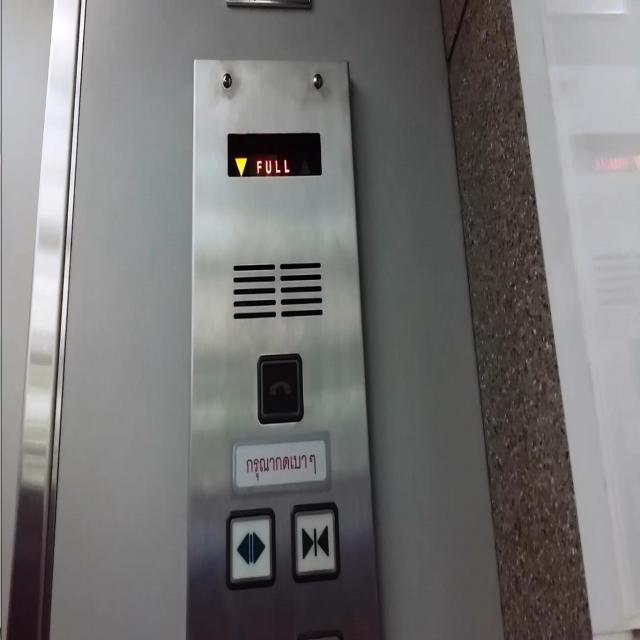call: (255, 350, 305, 427)
close: (289, 496, 343, 586)
led: (223, 126, 324, 184)
open: (226, 507, 277, 590)
